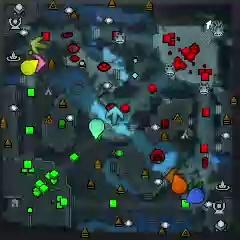p1: (185, 188, 205, 204)
p2: (89, 118, 105, 138)
p4: (20, 60, 38, 76)
p5: (172, 175, 187, 194)
x1: (33, 55, 47, 72)
x2: (30, 36, 47, 54)
x3: (105, 106, 123, 126)
x4: (187, 179, 204, 191)
x5: (166, 167, 184, 185)
